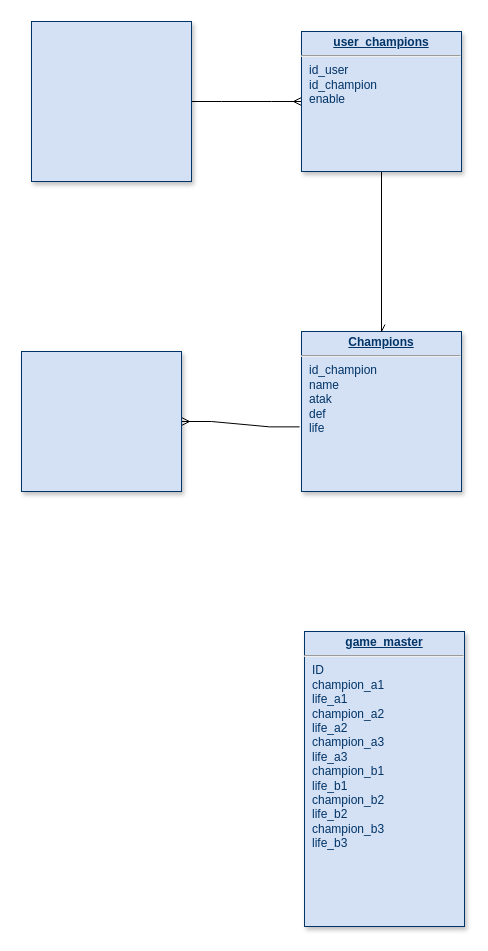
Some shapes in this 488 by 951 pixel diagram are drawn without their labels. Each missing label, with the centre of its shape:
"Abilities id_ability img power" belongs at point 102,422.
"User id_user password" belongs at point 112,102.
